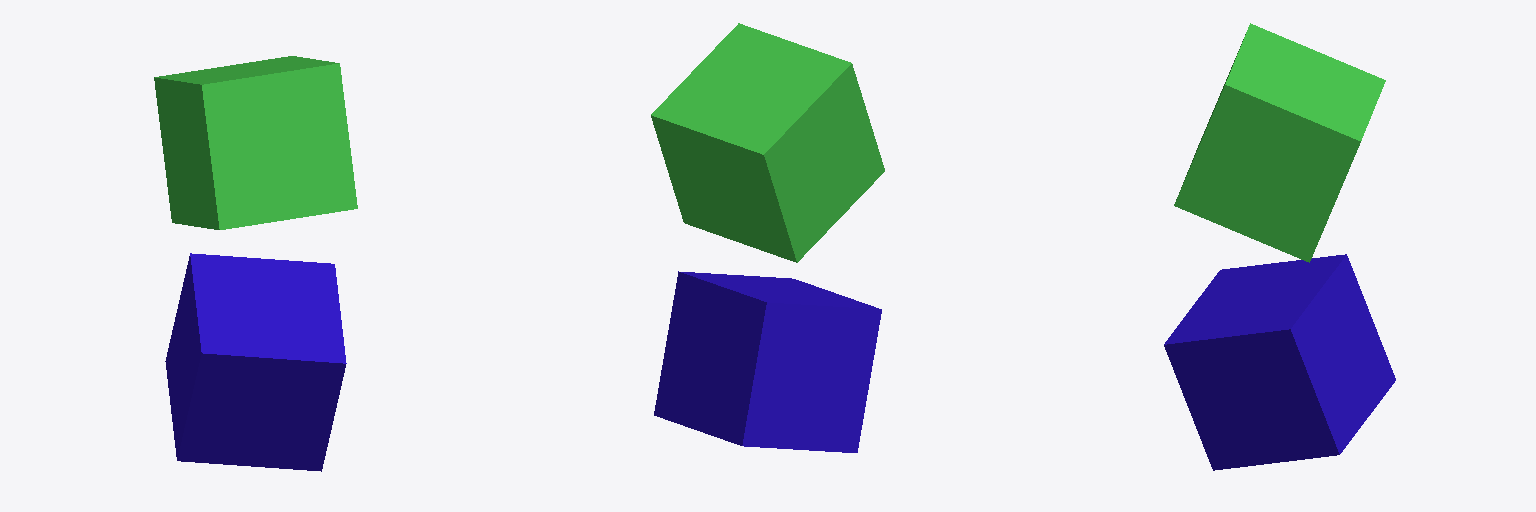
File: tank_.obj
3 views of the same model, side by side, from view 1: azimuth 30°, elevation 25°; view 2: azimuth 150°, elevation 25°; view 3: azimuth 270°, elevation 25° (orthographic).
Visible parts, largest first — view 1: Cube, Cube.001; view 2: Cube.001, Cube; view 3: Cube, Cube.001.
Boxes of the visible parts, box(x1,y1,x2,y2) form: Cube: box(165, 253, 346, 471); Cube.001: box(154, 56, 357, 229); Cube.001: box(651, 23, 884, 262); Cube: box(654, 271, 881, 452); Cube: box(1164, 254, 1395, 470); Cube.001: box(1174, 23, 1385, 262).
Bounding box in the file's own units: 2.64 × 5.96 × 3.16.